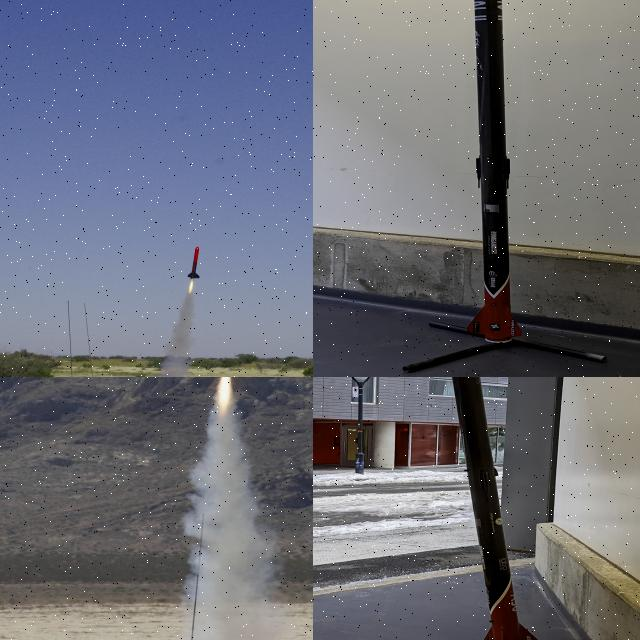Rocket: (452, 377, 539, 640), (467, 0, 522, 343), (187, 246, 200, 280)
